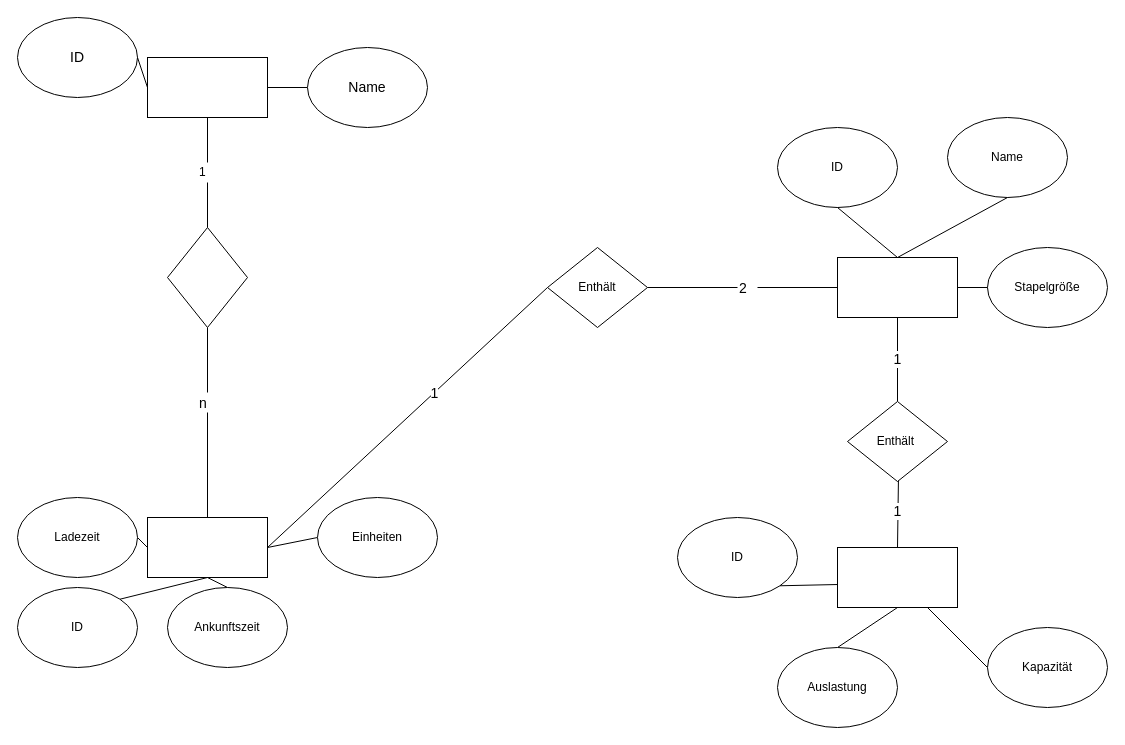
The diagram is 1125 pixels wide and 745 high, and some of its shapes have lost their labels. The centre of each missing label's shape, as x and y in pixels:
Ablage: point 897,577
Lieferant: point 207,87
Liefert: point 207,277
Lieferung: point 207,547
Material: point 897,287
